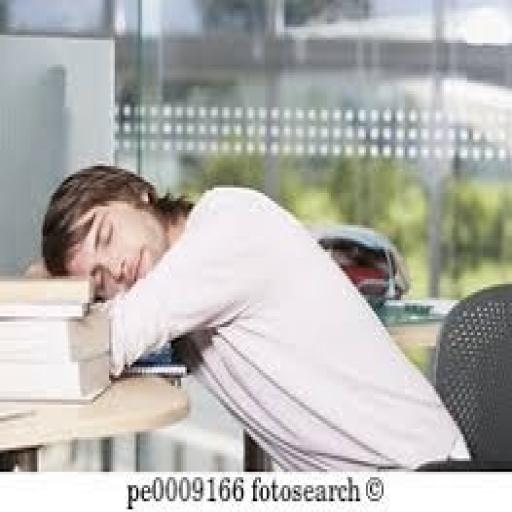sleeping: (31, 161, 473, 472)
